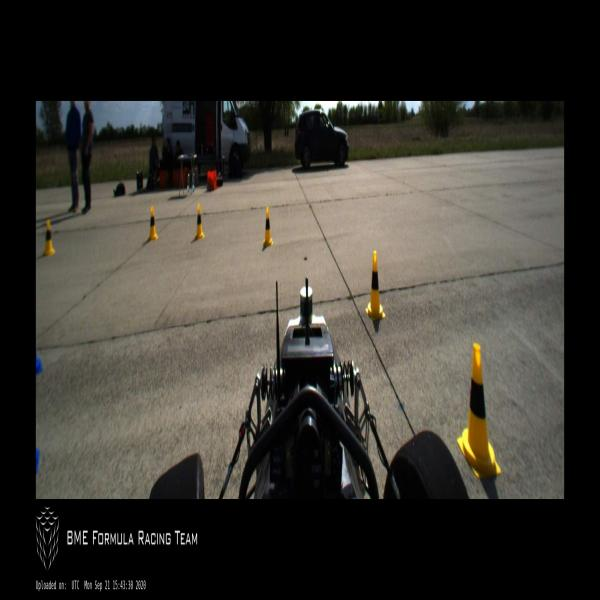yellow_cone: (456, 343, 502, 481), (366, 251, 386, 321), (42, 220, 56, 258), (262, 206, 273, 247), (194, 204, 205, 240), (148, 206, 158, 241)
